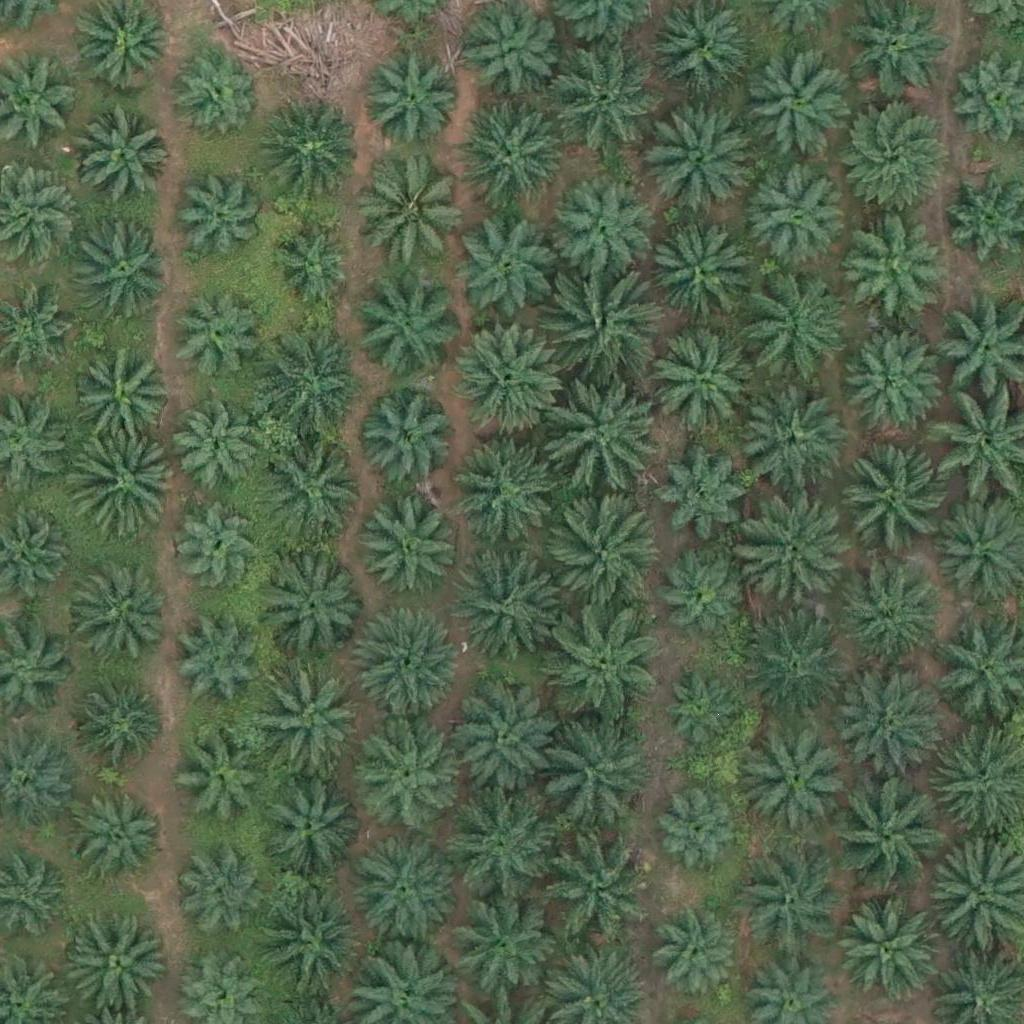Kelapa_Sawit: (734, 389, 847, 503), (452, 546, 565, 660), (837, 442, 950, 555), (542, 272, 655, 385), (551, 501, 664, 614), (445, 682, 558, 795), (452, 436, 565, 549), (349, 273, 462, 386), (351, 608, 464, 721), (257, 670, 370, 783), (255, 428, 368, 541), (256, 328, 369, 441), (832, 93, 945, 206), (739, 50, 852, 163), (450, 94, 563, 207), (841, 894, 953, 1008), (546, 606, 658, 720), (255, 884, 367, 998), (66, 427, 178, 541), (832, 773, 944, 886), (828, 664, 940, 777), (741, 271, 853, 384), (742, 503, 854, 616), (741, 605, 853, 718), (742, 724, 854, 837), (731, 845, 843, 958), (647, 324, 759, 437), (548, 384, 660, 497), (537, 716, 649, 829), (542, 826, 654, 939), (444, 881, 556, 994), (443, 790, 555, 903), (451, 320, 563, 433), (350, 837, 462, 950), (59, 906, 171, 1019), (645, 99, 757, 212), (549, 44, 661, 157), (359, 157, 471, 270), (843, 569, 943, 670), (849, 332, 949, 433), (654, 446, 754, 547), (354, 391, 454, 492), (362, 495, 462, 596), (358, 732, 458, 833), (254, 776, 354, 877), (265, 559, 365, 660), (64, 784, 164, 885), (77, 351, 177, 452), (838, 214, 938, 315), (747, 163, 847, 264), (644, 225, 744, 326), (553, 180, 653, 281), (460, 1, 560, 102), (453, 215, 553, 316), (365, 49, 465, 150), (65, 562, 165, 662), (259, 103, 359, 203), (73, 105, 173, 205), (72, 220, 172, 320), (168, 295, 256, 383), (172, 407, 260, 495), (177, 733, 265, 821), (182, 853, 270, 941), (70, 678, 158, 766), (268, 216, 356, 304), (655, 907, 742, 995), (655, 783, 742, 871), (666, 550, 753, 638), (174, 504, 261, 592), (175, 623, 262, 711), (175, 170, 262, 258), (172, 47, 259, 135), (664, 673, 739, 749)
